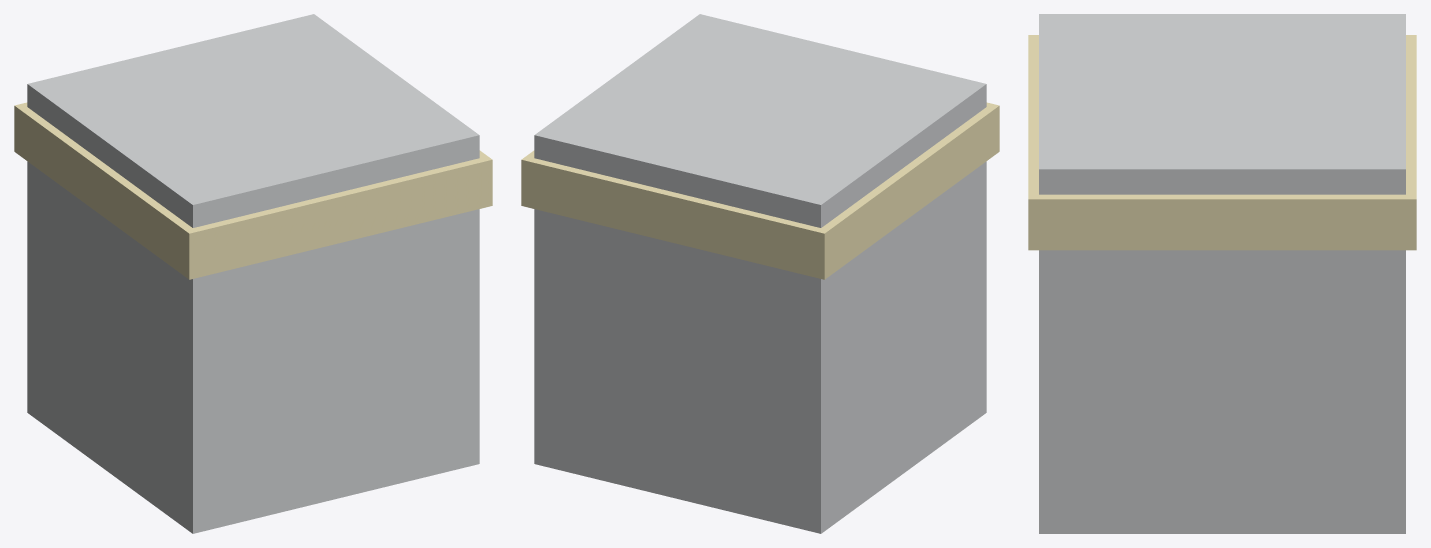
Rendered from rei_elfo_canela.glb.
3 renders of one model, left to right at view 1: azimuth 30°, elevation 25°; view 2: azimuth 150°, elevation 25°; view 3: azimuth 270°, elevation 25°, orthographic. The views are drawn at different scales.
Visible parts, largest first — view 1: rei_elfo_canela; view 2: rei_elfo_canela; view 3: rei_elfo_canela.
Part boxes in pixels (x1,y1,x2,y2): rei_elfo_canela: (14,14,492,533); rei_elfo_canela: (521,14,999,533); rei_elfo_canela: (1028,14,1416,533).
Bounding box in the file's own units: 0.275 × 0.285 × 0.275.
